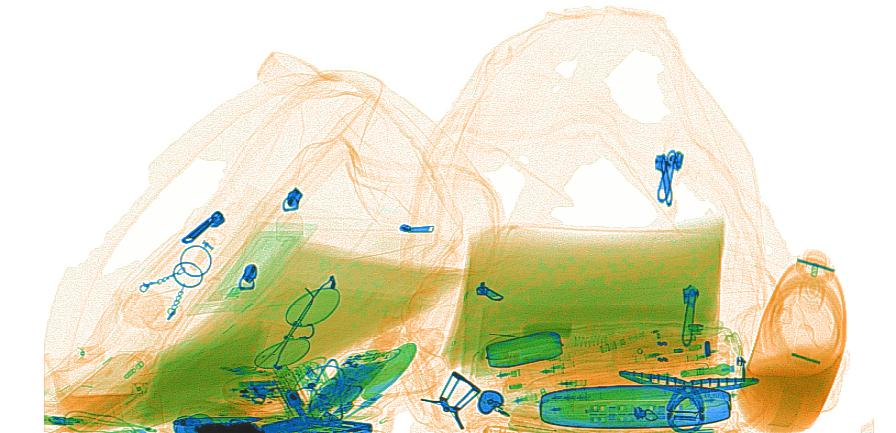plasticBottleWithaNozzle: (53, 332, 168, 428)
